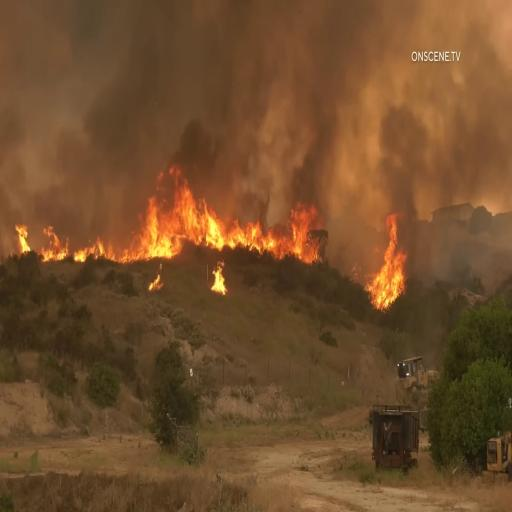fire: (132, 157, 215, 261), (204, 197, 327, 264), (374, 217, 408, 320), (12, 220, 70, 272)
smoke: (107, 0, 337, 167), (385, 97, 433, 210)
